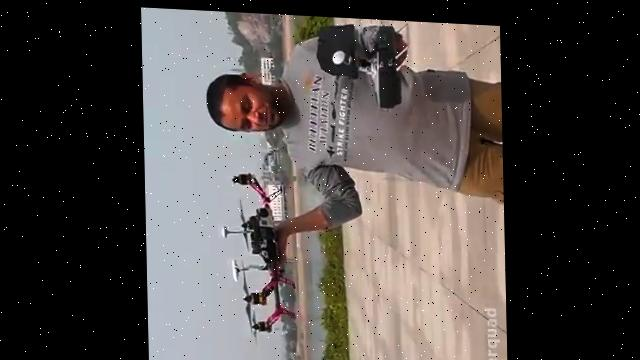drone: (214, 163, 298, 345)
